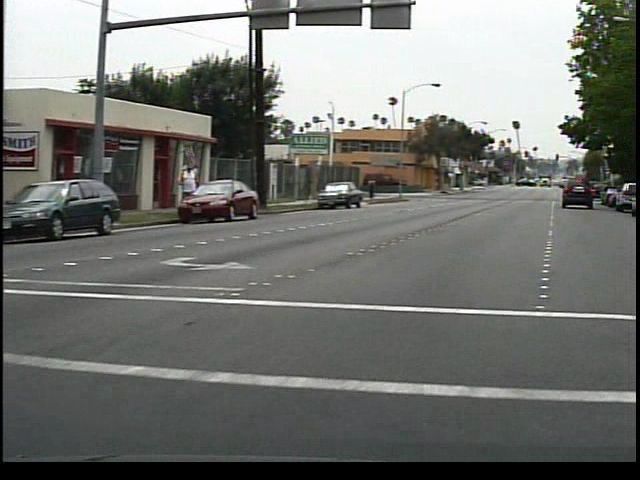person: (181, 159, 208, 218), (370, 173, 385, 202)
